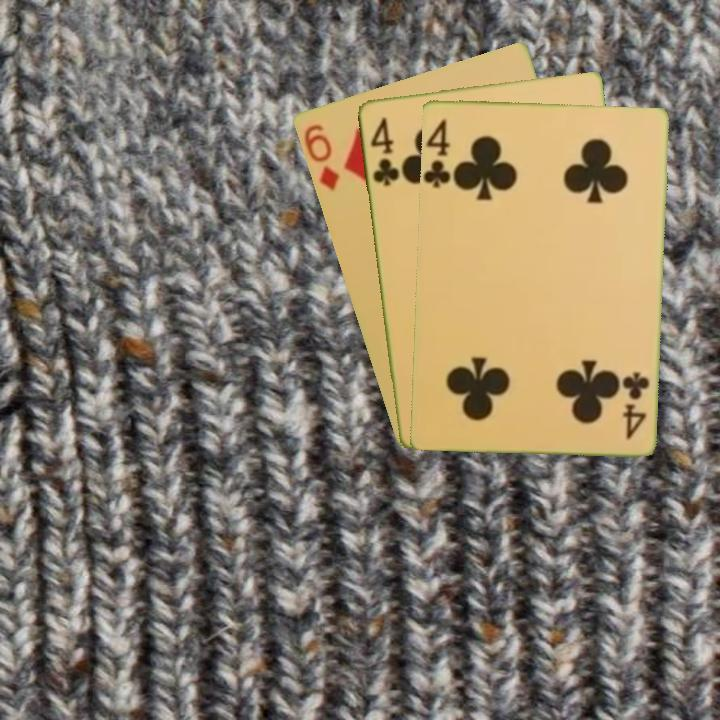4c: (366, 113, 402, 189), (619, 368, 652, 442), (422, 115, 453, 191)
6d: (300, 120, 342, 193)
